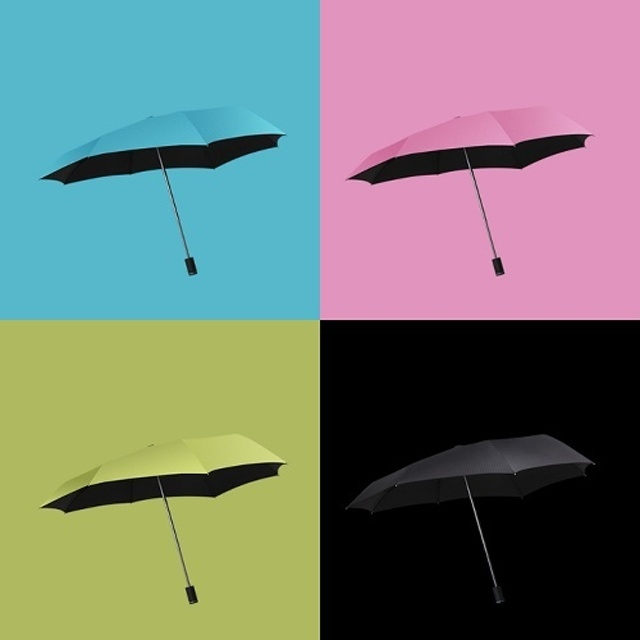umbrella: (40, 97, 285, 280), (346, 432, 598, 609), (40, 430, 288, 606), (344, 107, 594, 281)
